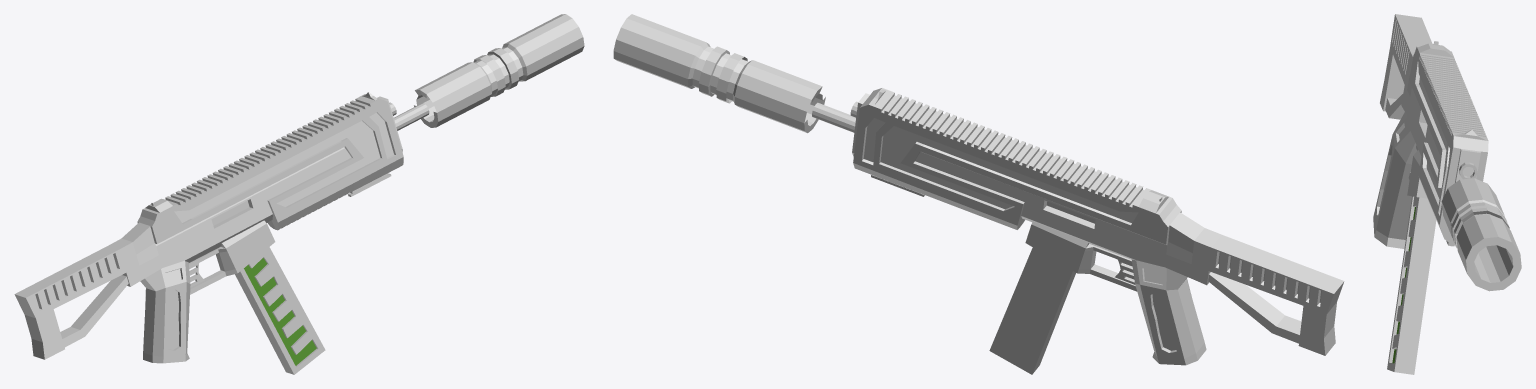
The model's file is scifi_silenced_ar.glb.
3 renders of one model, left to right at view 1: azimuth 30°, elevation 25°; view 2: azimuth 150°, elevation 25°; view 3: azimuth 270°, elevation 25°, orthographic. The views are drawn at different scales.
Visible parts, largest first — view 1: Handel, Magzen; view 2: Handel, Magzen; view 3: Handel, Magzen.
Boxes of the visible parts, x1,y1,x2,y2 form: Handel: [14, 14, 584, 363]; Magzen: [235, 247, 325, 374]; Handel: [613, 14, 1344, 365]; Magzen: [989, 247, 1075, 374]; Handel: [1373, 14, 1521, 291]; Magzen: [1387, 196, 1436, 374].
Bounding box in the file's own units: 4.57 × 1.9 × 0.7578.
